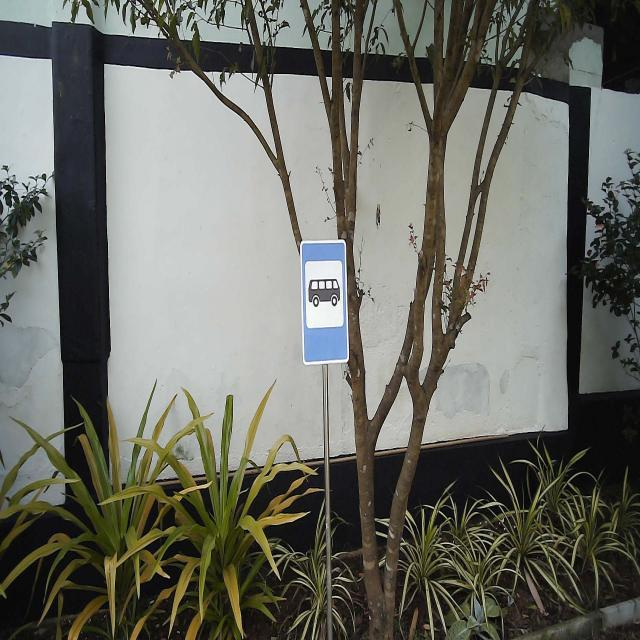bus_stop: (299, 238, 351, 368)
